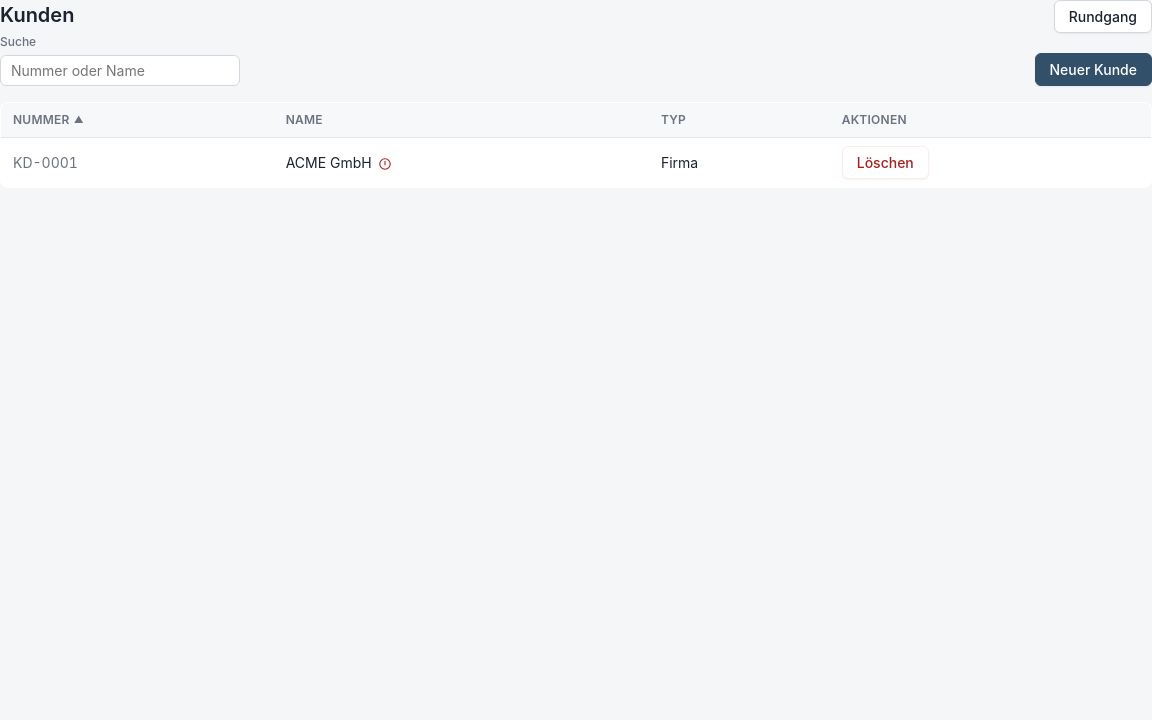
Test case: Kunden › zeigt nach dem Löschen eines Kunden einen Erfolgs-Hinweis und öffnet nicht versehentlich die Detailseite
Check: the text "ACME GmbH" is shown, box x1=274 y1=138 x2=649 y2=188
Click the button "Löschen" at [885, 162], box x1=842 y1=146 x2=929 y2=179
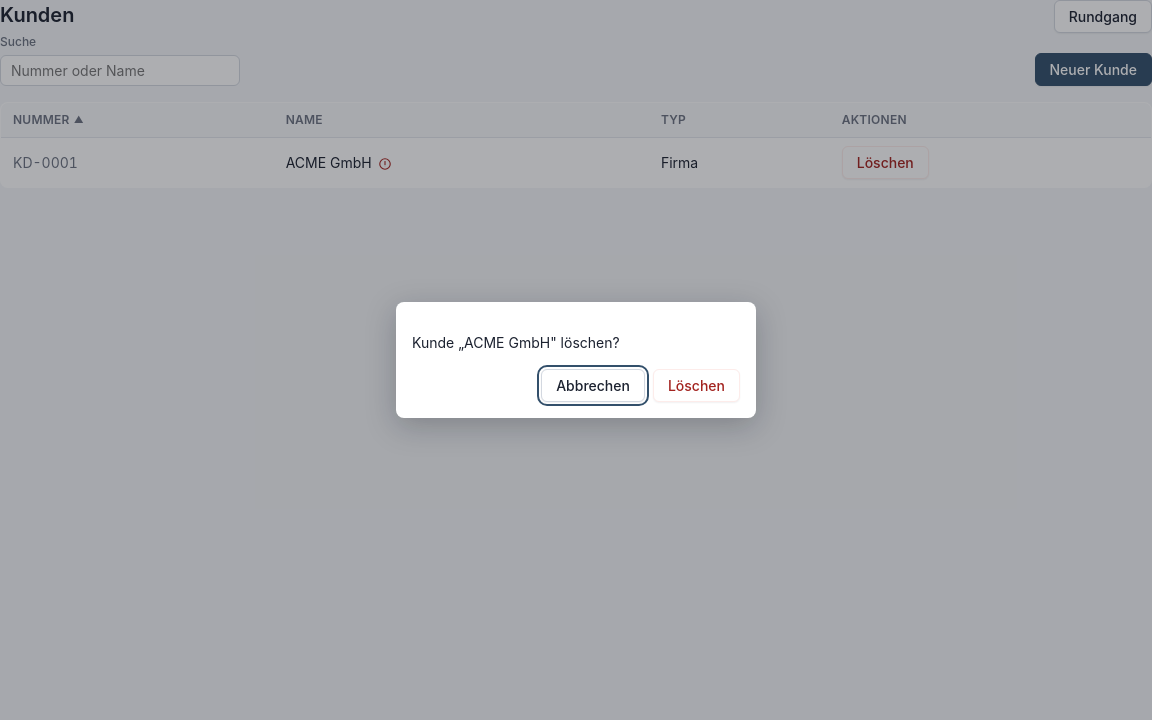
Check: the text "Kunde „ACME GmbH\" löschen?" is shown, box x1=412 y1=334 x2=620 y2=351
Click the button "Löschen" at [696, 386], box x1=653 y1=369 x2=740 y2=402
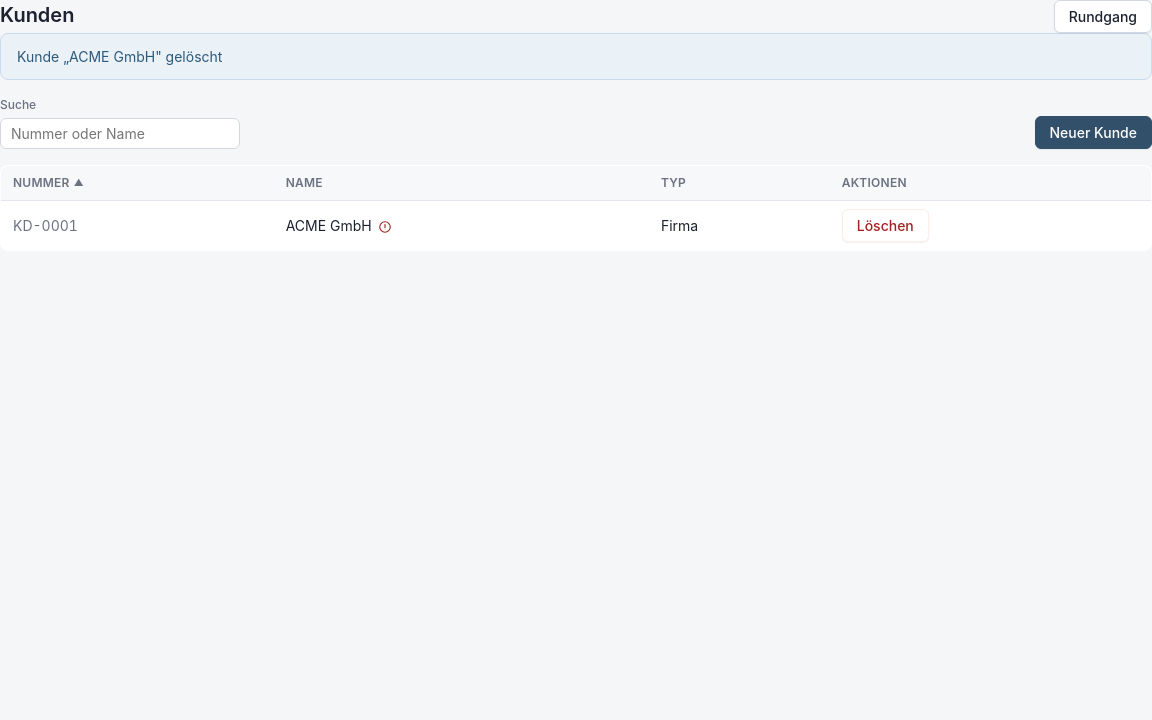
Check: the text "Kunde „ACME GmbH\" gelöscht" is shown, box x1=17 y1=46 x2=222 y2=67
